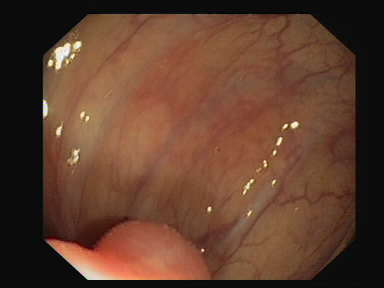polyp: (67, 184, 240, 285)
